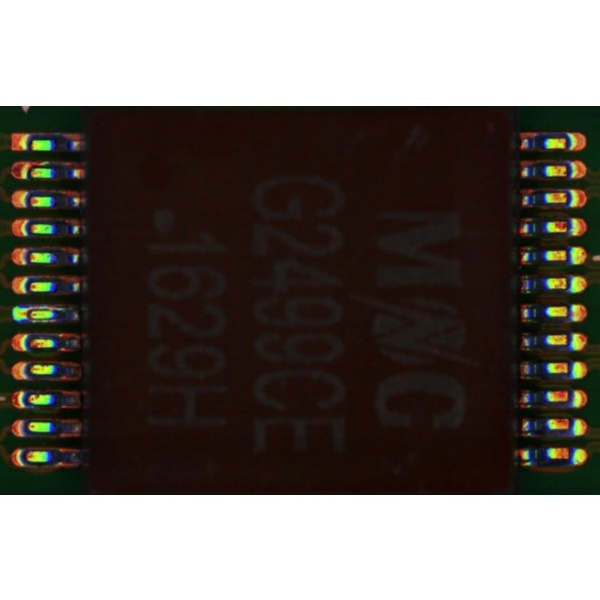Bad_podu: (23, 309, 35, 318)
Bad_qiaojiao: (31, 318, 61, 323), (32, 305, 65, 309)
